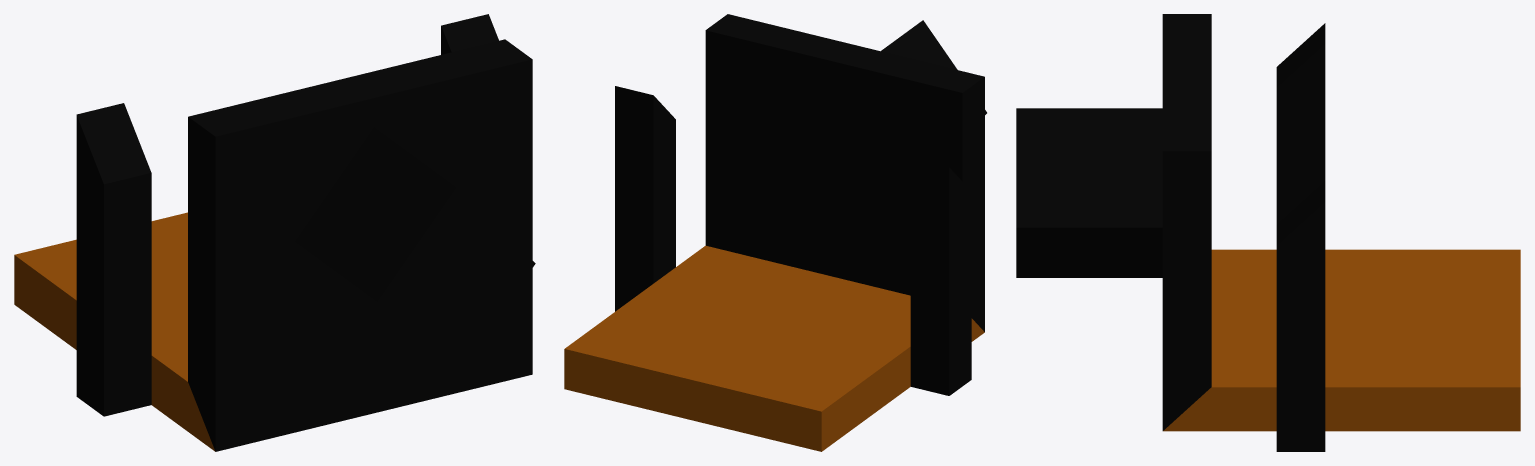
The model's file is creslo.fbx.
The picture shows the model from 3 angles, left to right: view 1: azimuth 30°, elevation 25°; view 2: azimuth 150°, elevation 25°; view 3: azimuth 270°, elevation 25°; orthographic projection. The views are drawn at different scales.
Visible parts, largest first — view 1: Куб.001; view 2: Куб.001; view 3: Куб.001.
Boxes of the visible parts, x1,y1,x2,y2 form: Куб.001: [14, 14, 535, 451]; Куб.001: [564, 14, 986, 451]; Куб.001: [1016, 14, 1520, 451].
Bounding box in the file's own units: 260 × 190 × 310.
